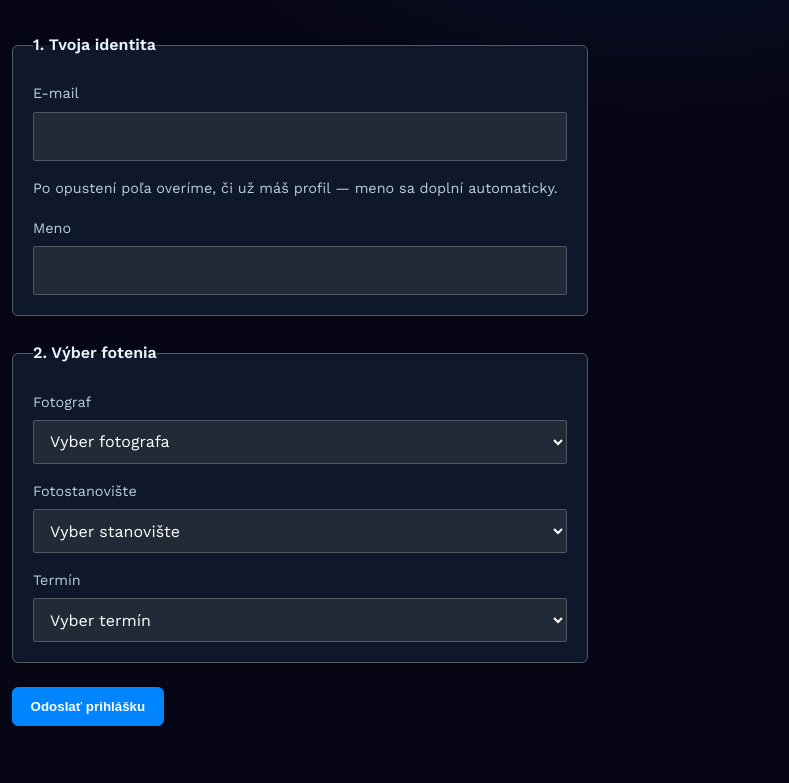
Scenario: ApplicationForm › prefills read-only name for returning cosplayer on email blur
Type "marek@example.com" into the field labelled "E-mail".
click(300, 136); type("marek@example.com")  # box [33, 112, 567, 161]
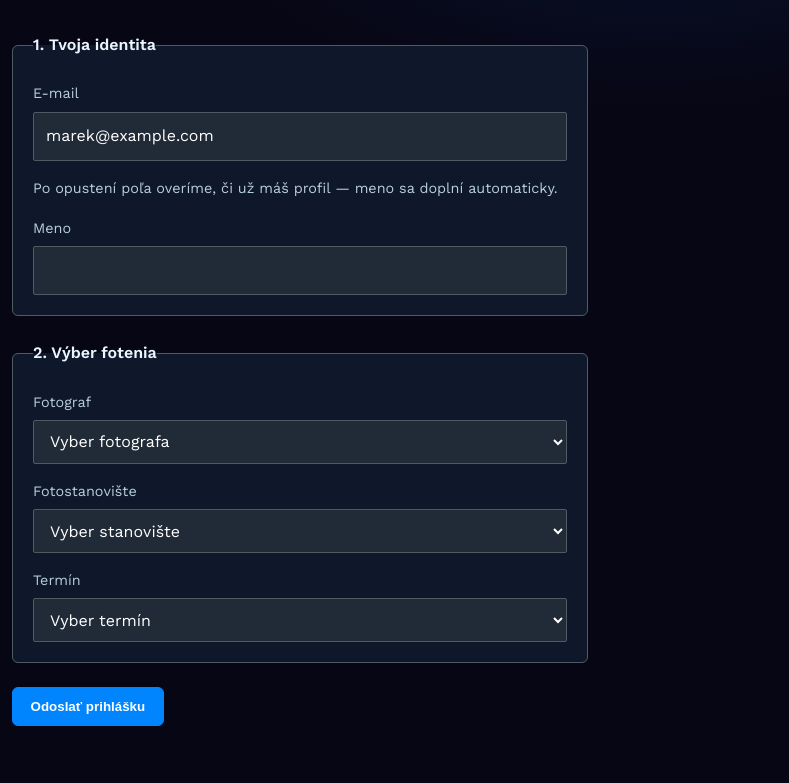
Leave the field labelled "E-mail", box [33, 112, 567, 161]
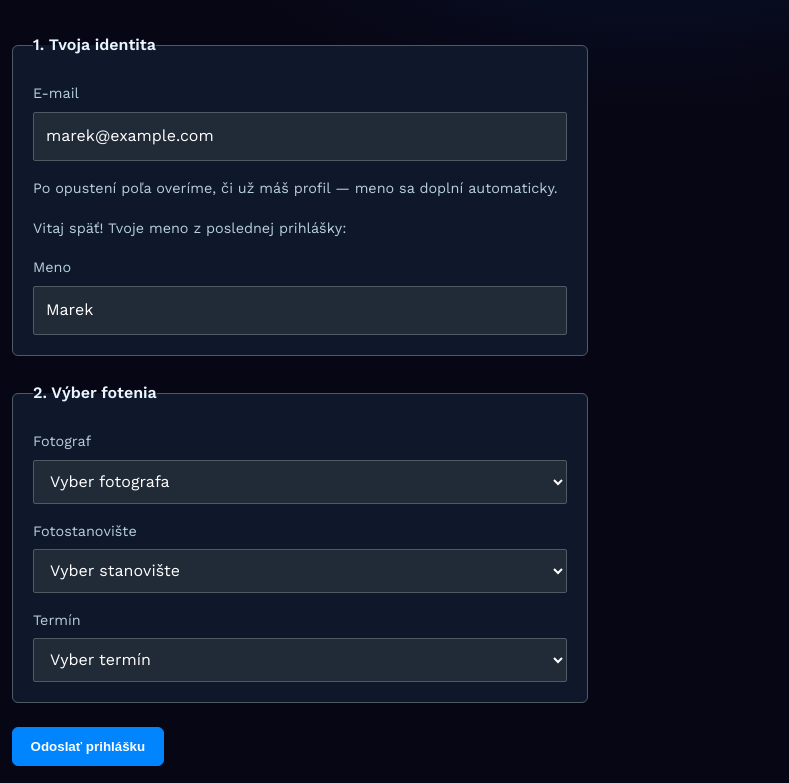
Check: the field labelled "Meno" holds "Marek", box [33, 286, 567, 335]
